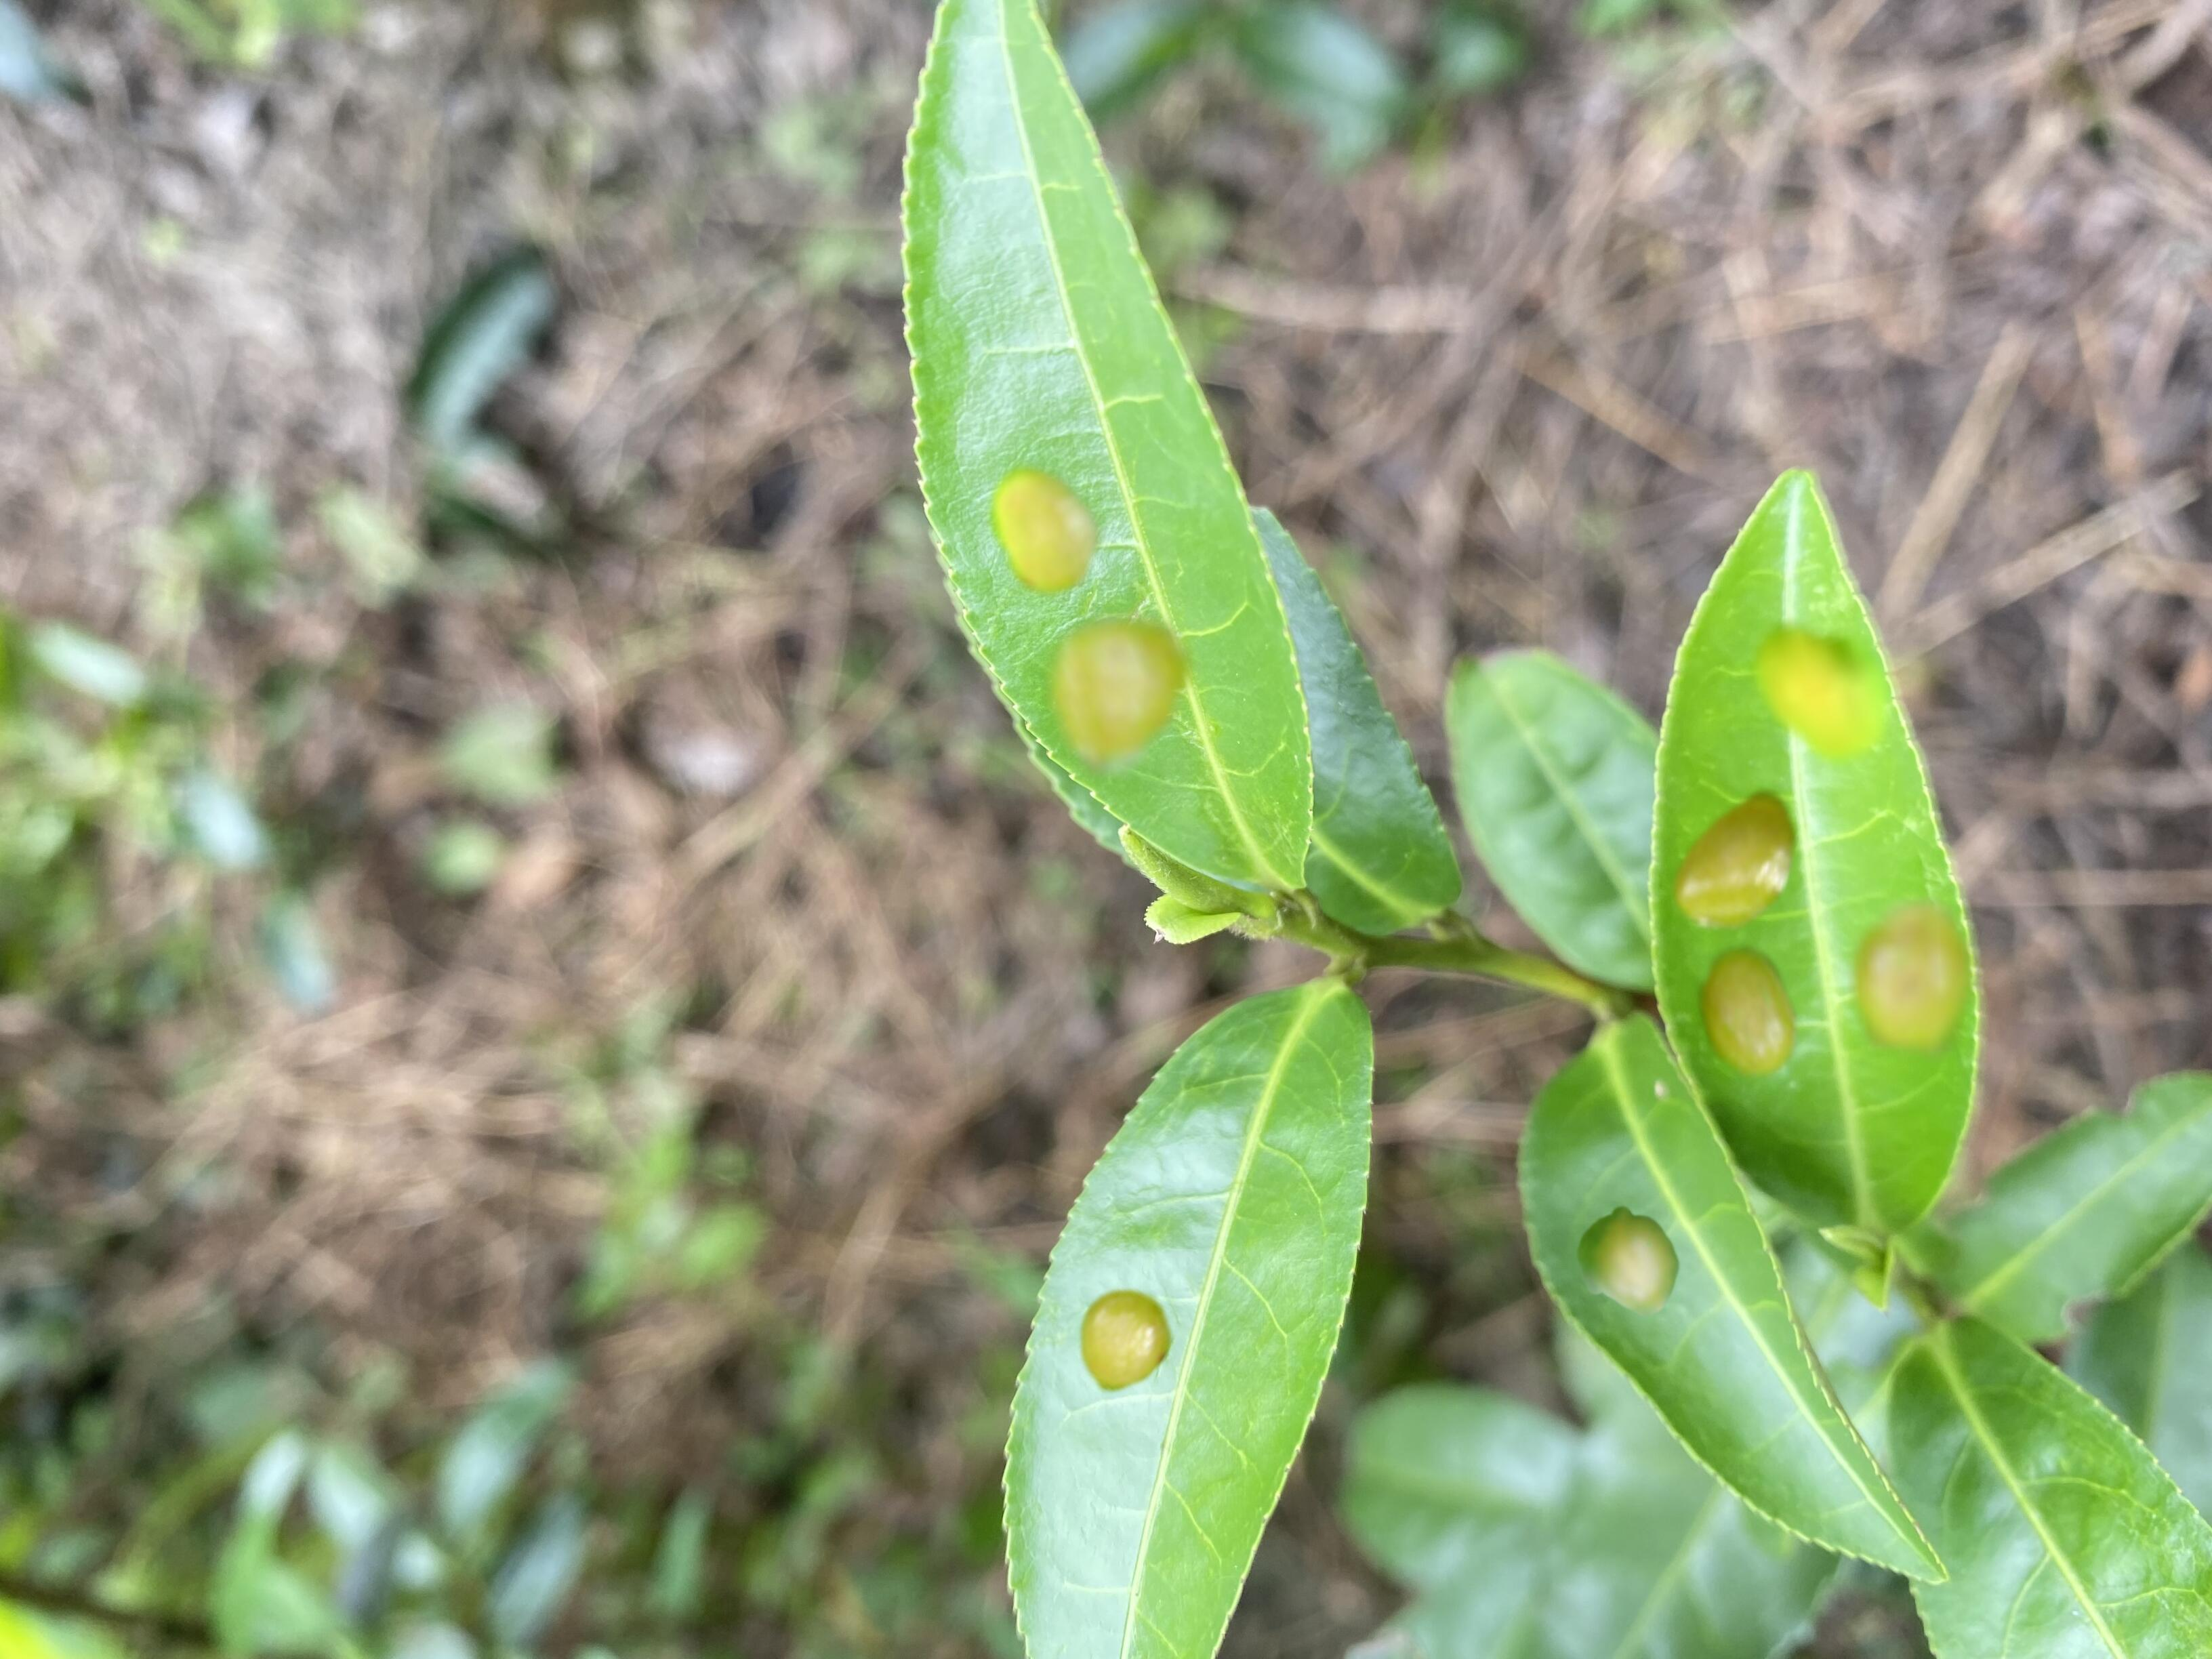chabing_high: (895, 0, 1317, 896), (1646, 467, 1986, 1241)
chabing_low: (998, 981, 1376, 1659), (1512, 1009, 1946, 1588)
healthy: (1883, 1312, 2210, 1656)
